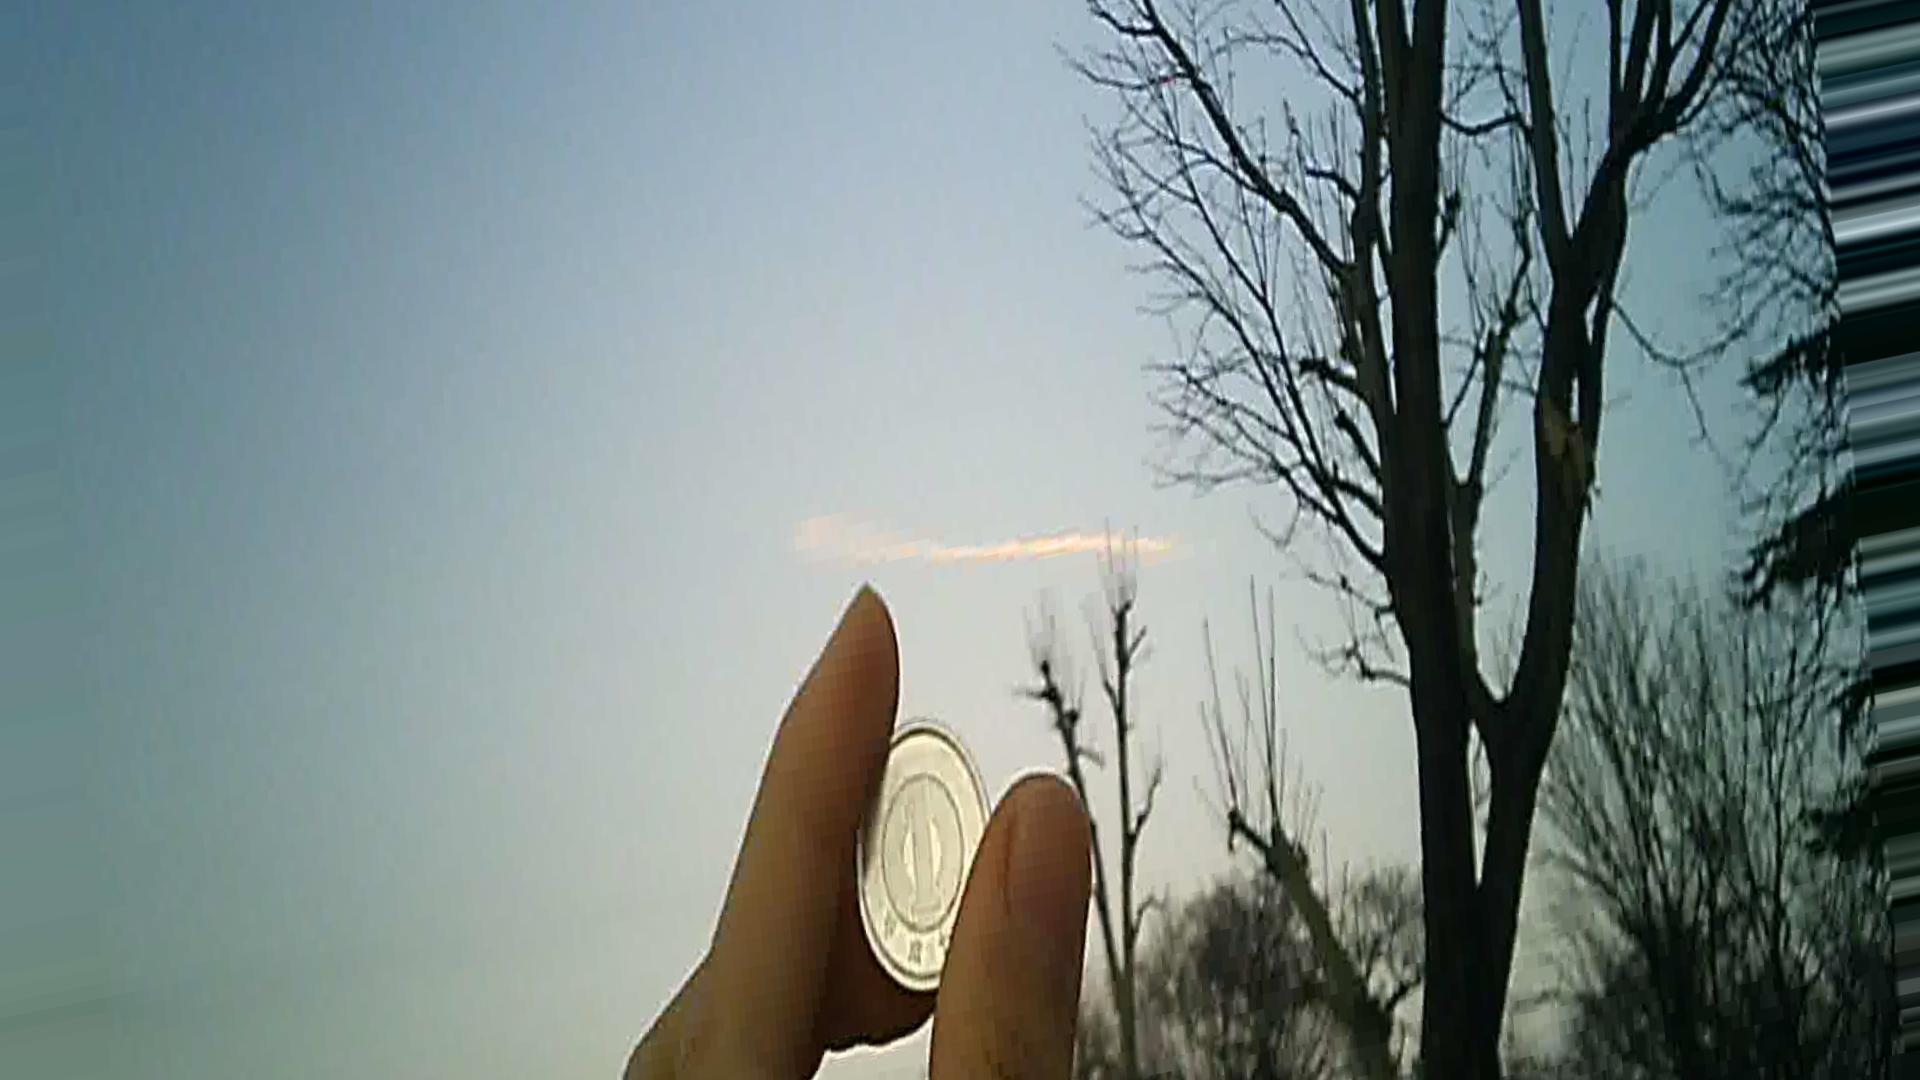1 Yen: (832, 713, 1000, 1007)
